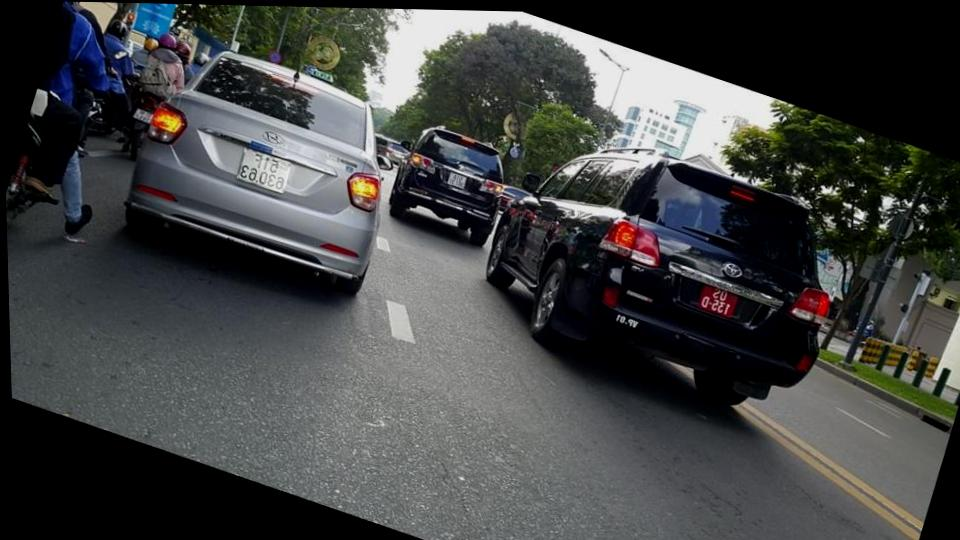License_Plate: (230, 148, 295, 199), (693, 287, 742, 320), (442, 173, 470, 194)
